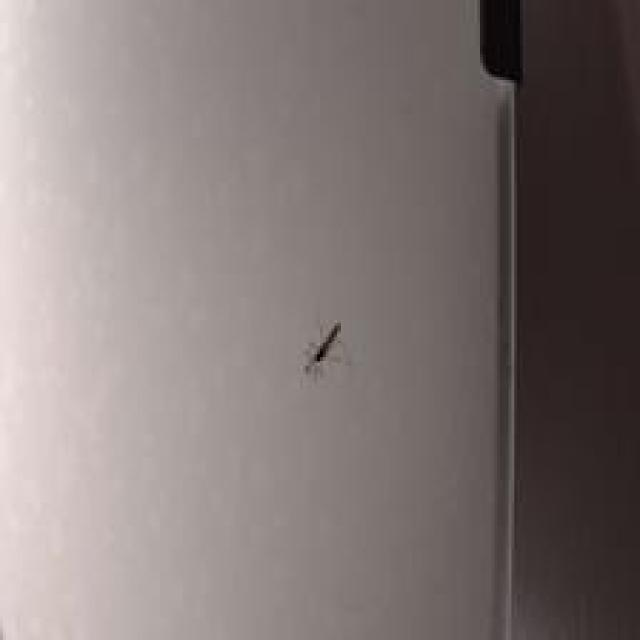Culex: (302, 320, 342, 377)
